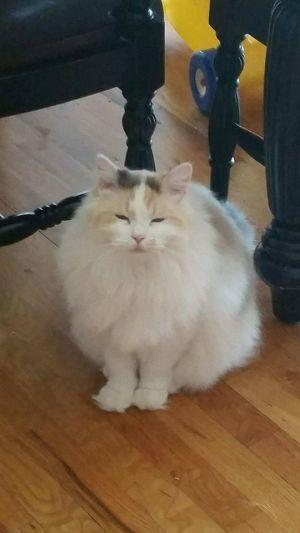ragdoll: (80, 143, 200, 280)
